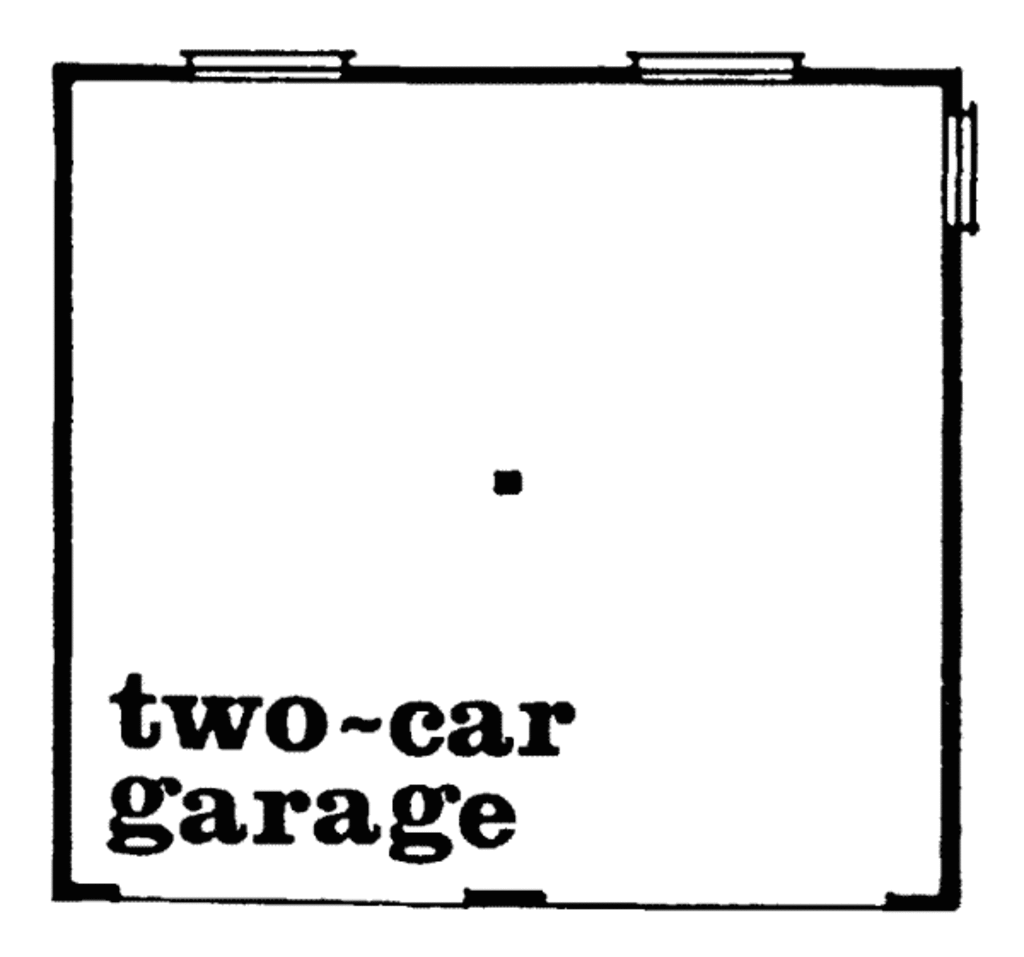window: (624, 40, 810, 94), (181, 39, 360, 84), (941, 105, 986, 233)
